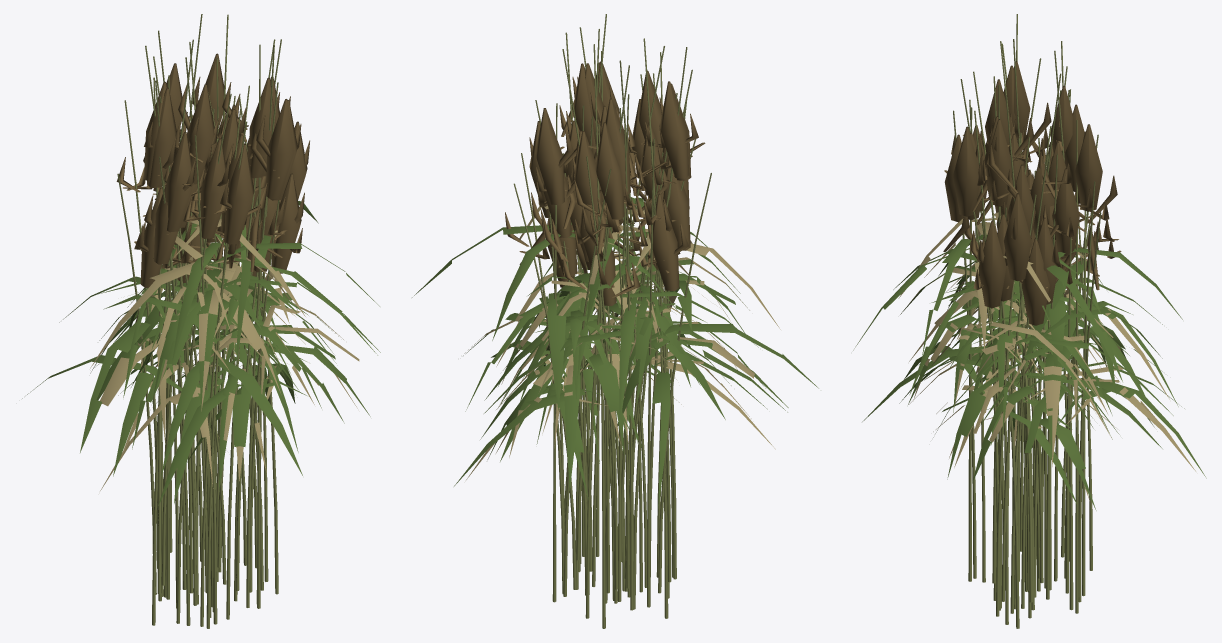
Rendered from vegetation_07.glb.
The picture shows the model from 3 angles, left to right: view 1: azimuth 30°, elevation 25°; view 2: azimuth 150°, elevation 25°; view 3: azimuth 270°, elevation 25°; orthographic projection. The views are drawn at different scales.
Parts seen in each view (by area): view 1: prototype_063, prototype_059, prototype_058, prototype_057, prototype_061, prototype_056, prototype_060, prototype_062; view 2: prototype_057, prototype_061, prototype_062, prototype_056, prototype_058, prototype_063, prototype_059, prototype_060; view 3: prototype_061, prototype_059, prototype_063, prototype_058, prototype_062, prototype_057, prototype_056, prototype_060.
Part boxes in pixels (x1=…): prototype_063: x1=90, y1=45, x2=343, y2=628; prototype_059: x1=140, y1=56, x2=379, y2=605; prototype_058: x1=127, y1=14, x2=377, y2=624; prototype_057: x1=80, y1=39, x2=305, y2=625; prototype_061: x1=90, y1=30, x2=336, y2=617; prototype_056: x1=100, y1=39, x2=317, y2=617; prototype_060: x1=116, y1=39, x2=317, y2=619; prototype_062: x1=22, y1=14, x2=380, y2=608; prototype_057: x1=454, y1=38, x2=818, y2=618; prototype_061: x1=465, y1=51, x2=758, y2=618; prototype_062: x1=484, y1=32, x2=765, y2=628; prototype_056: x1=414, y1=27, x2=775, y2=603; prototype_058: x1=527, y1=29, x2=705, y2=600; prototype_063: x1=463, y1=14, x2=780, y2=607; prototype_059: x1=496, y1=62, x2=788, y2=602; prototype_060: x1=412, y1=27, x2=688, y2=603; prototype_061: x1=893, y1=41, x2=1182, y2=613; prototype_059: x1=900, y1=65, x2=1119, y2=613; prototype_063: x1=919, y1=71, x2=1184, y2=628; prototype_058: x1=853, y1=58, x2=1162, y2=624; prototype_062: x1=909, y1=41, x2=1162, y2=618; prototype_057: x1=912, y1=14, x2=1206, y2=590; prototype_056: x1=868, y1=85, x2=1178, y2=608; prototype_060: x1=862, y1=79, x2=1154, y2=597.
Size of the model in its own units: 1.92 by 3.26 by 1.88.
